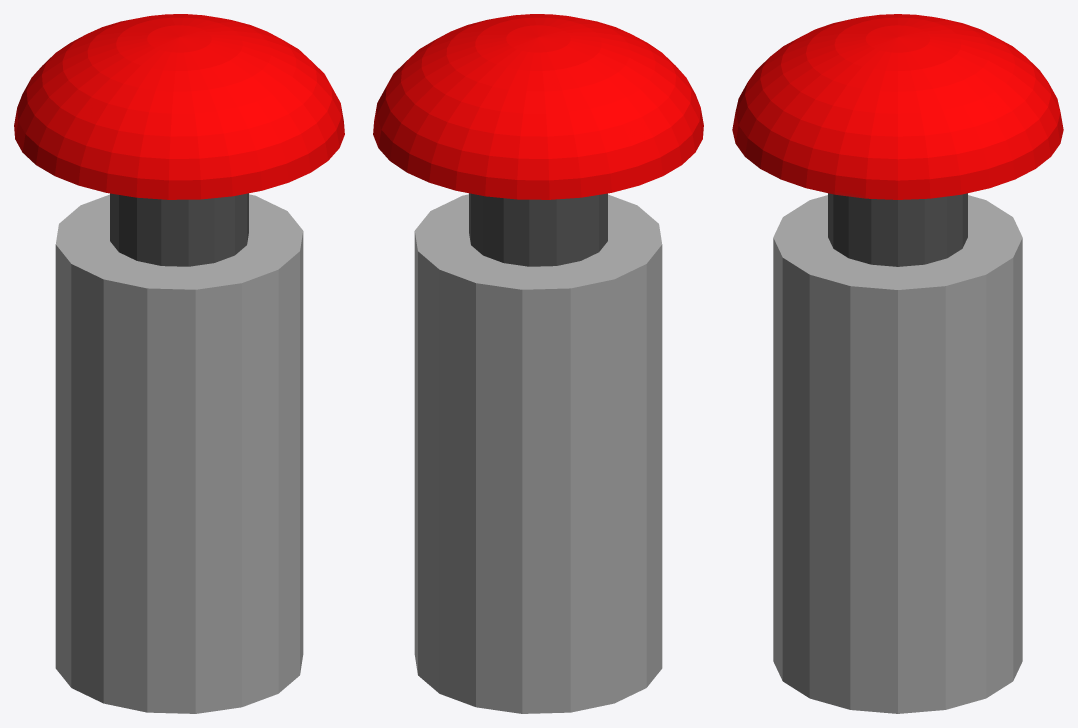
The model's file is Baton.fbx.
3 renders of one model, left to right at view 1: azimuth 30°, elevation 25°; view 2: azimuth 150°, elevation 25°; view 3: azimuth 270°, elevation 25°, orthographic.
Visible parts, largest first — view 1: Cube, Cube.001; view 2: Cube, Cube.001; view 3: Cube, Cube.001.
Boxes of the visible parts, x1,y1,x2,y2 form: Cube: (55, 194, 303, 713); Cube.001: (14, 14, 344, 266); Cube: (414, 194, 662, 713); Cube.001: (373, 14, 703, 266); Cube: (773, 195, 1022, 713); Cube.001: (732, 14, 1063, 266).
Bounding box in the file's own units: 53.14 × 53.14 × 110.
